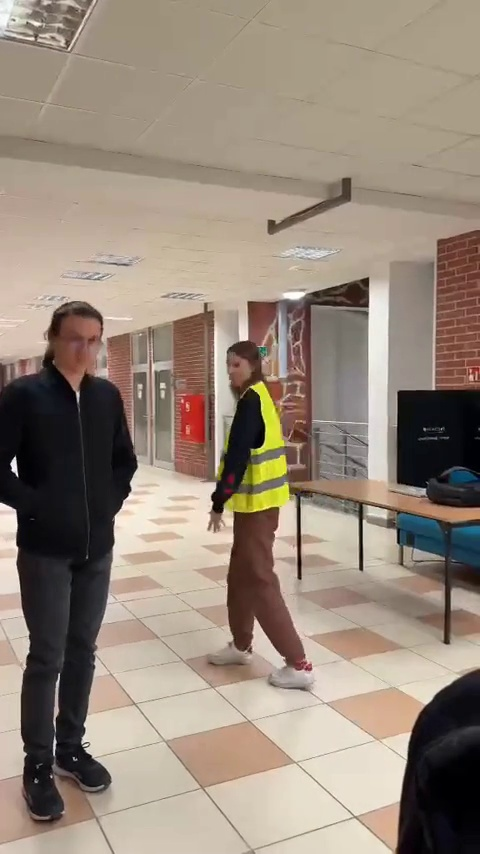no vest: (0, 295, 157, 822)
vest: (193, 344, 322, 686)
